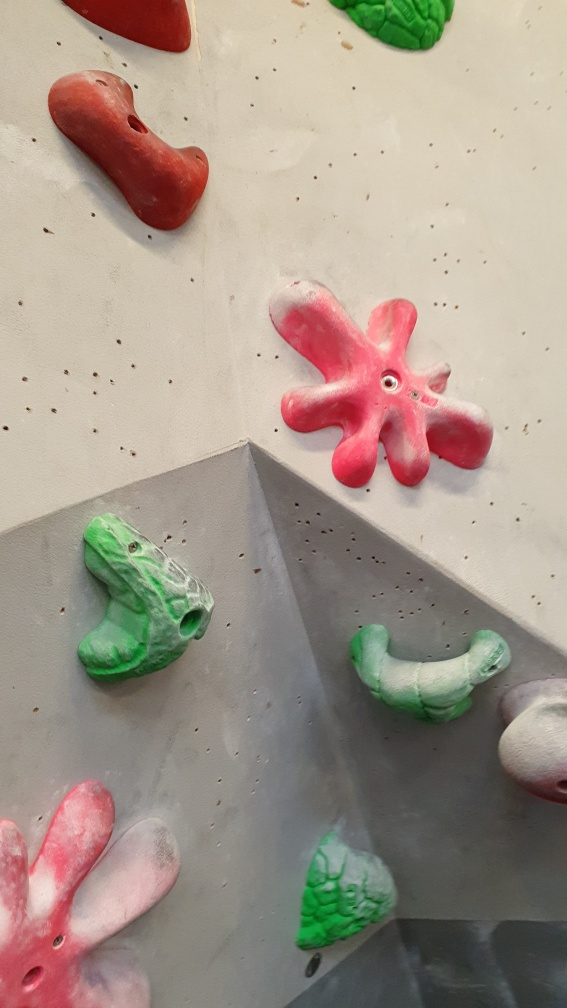Hand Start: (300, 949, 325, 978)
Jug: (346, 620, 519, 728), (294, 826, 404, 957)
Octopus Pinch: (261, 273, 500, 493), (2, 779, 181, 1007)
Sloper: (490, 684, 567, 812)
